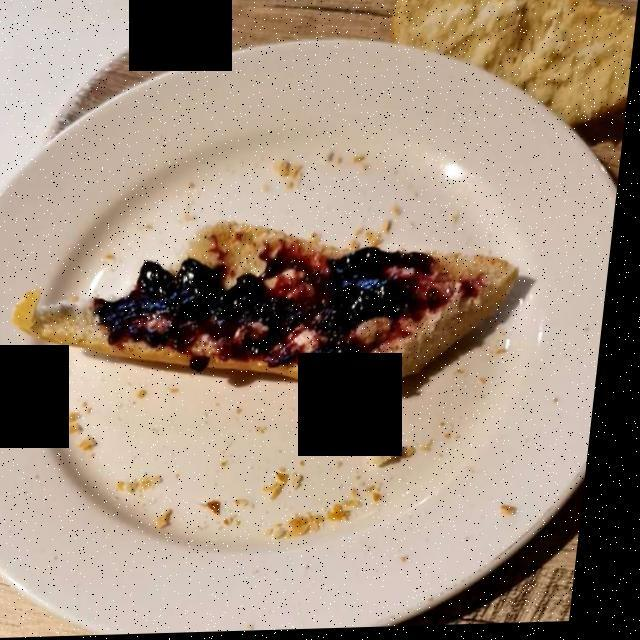bread: (34, 226, 522, 389)
jam: (101, 250, 465, 370)
